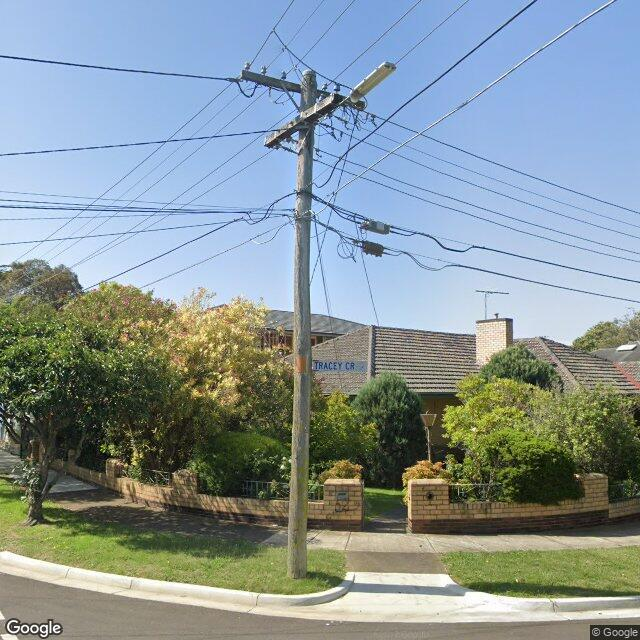crossarm: (241, 70, 365, 110), (264, 93, 339, 149)
streetlight: (337, 61, 397, 107)
timber-pole: (286, 70, 316, 579)
